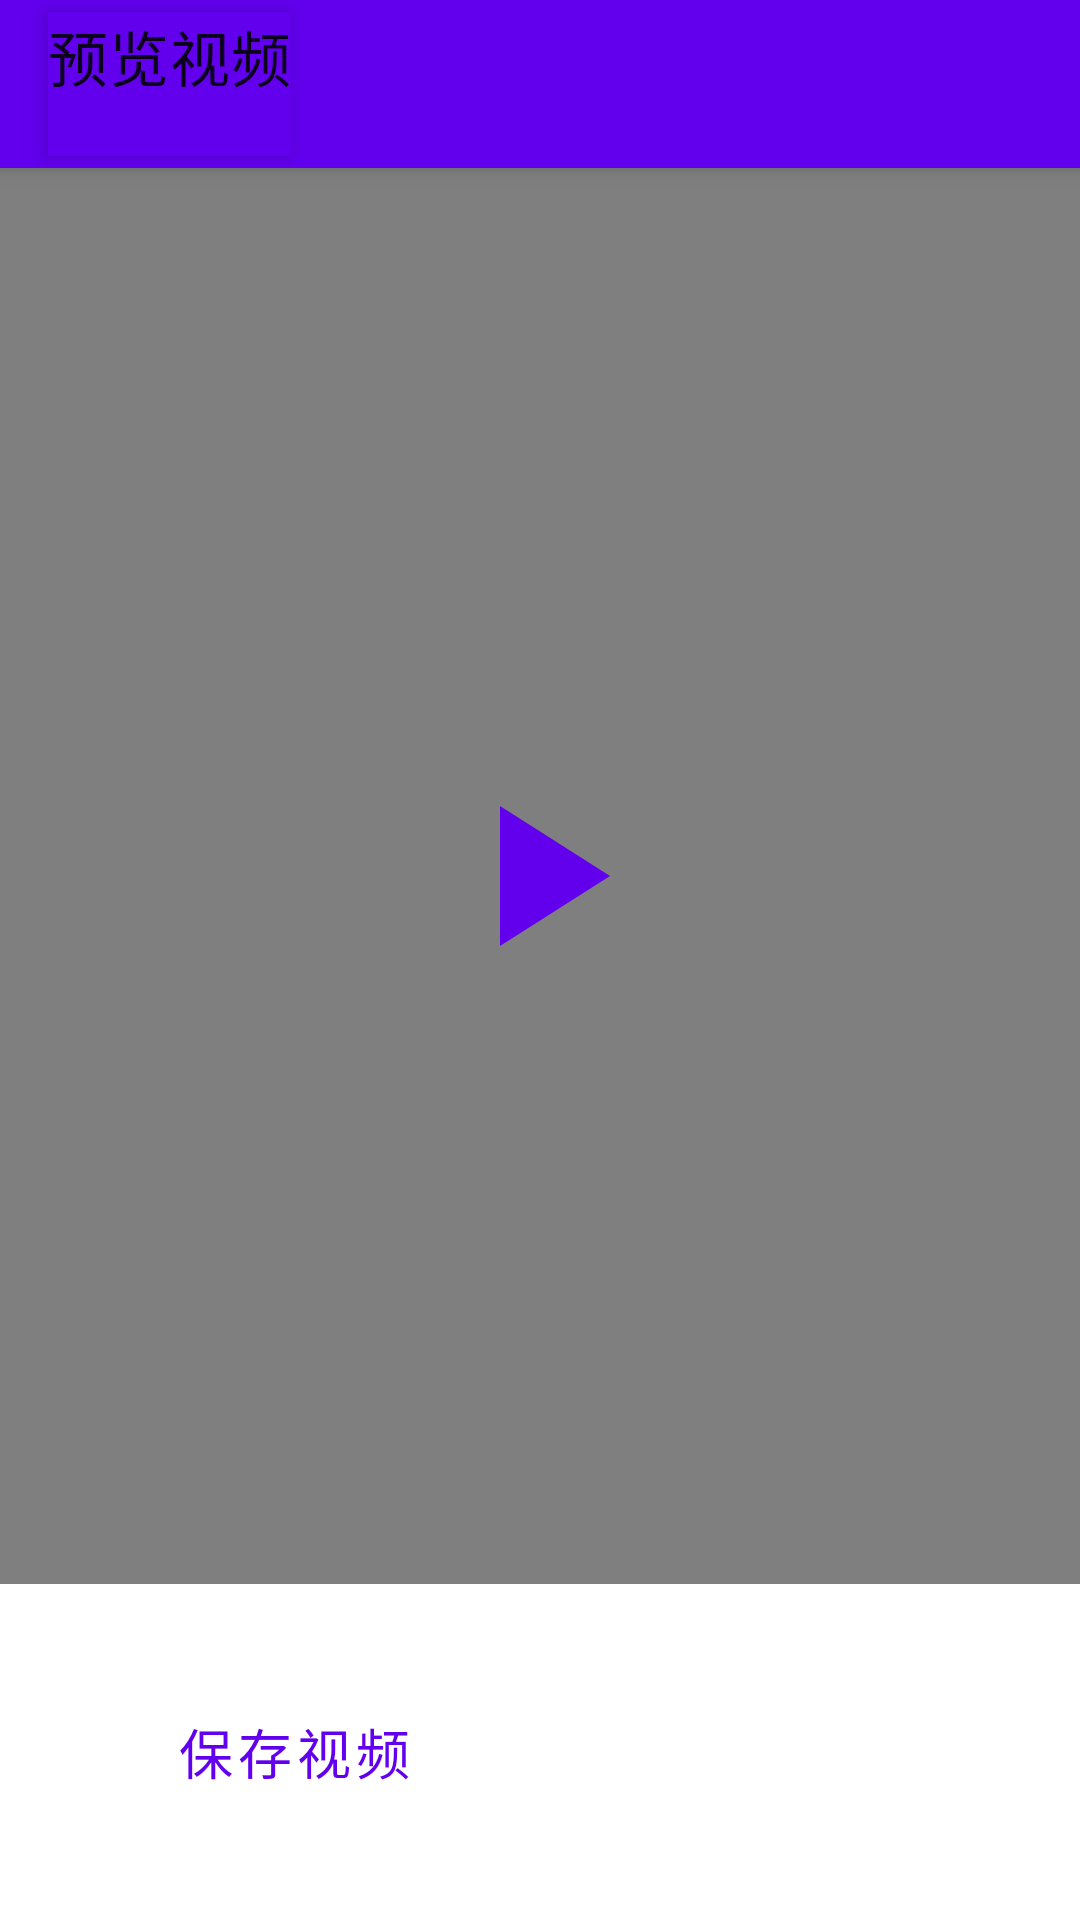

Icon bounding boxes for this 1080w x 1920h phone screenshot, format box=[x1, y1, x2, y2]:
play circle: box=[500, 806, 610, 946]
